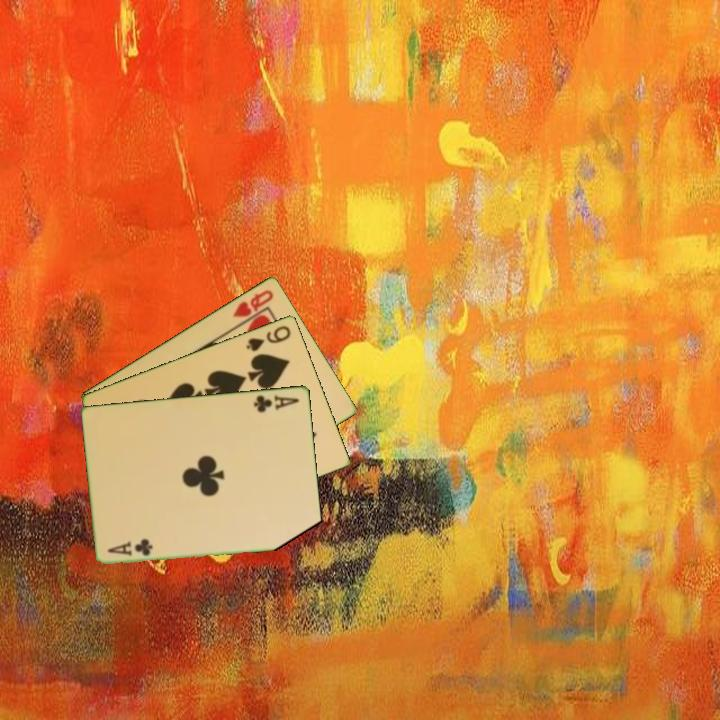9s: (243, 322, 294, 354)
Ac: (250, 391, 302, 415), (104, 536, 156, 558)
Qh: (229, 285, 277, 320)
